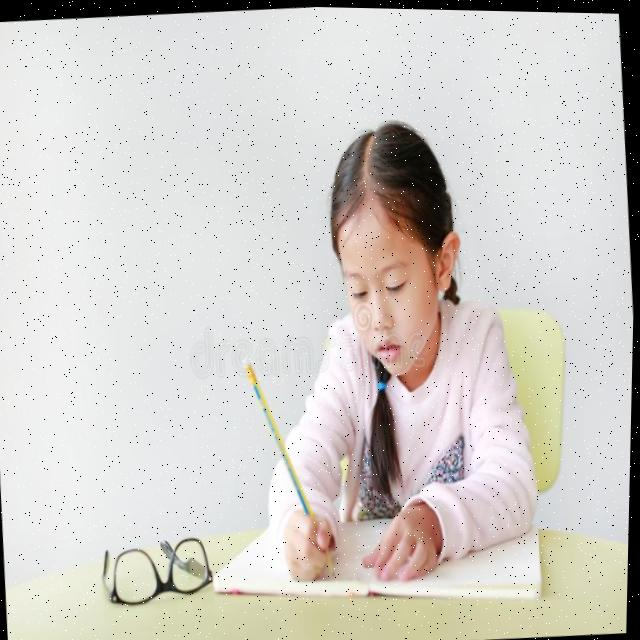pencil: (243, 360, 318, 516), (324, 546, 344, 580)
